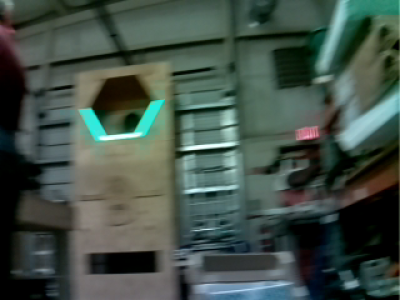target: (79, 100, 163, 140)
